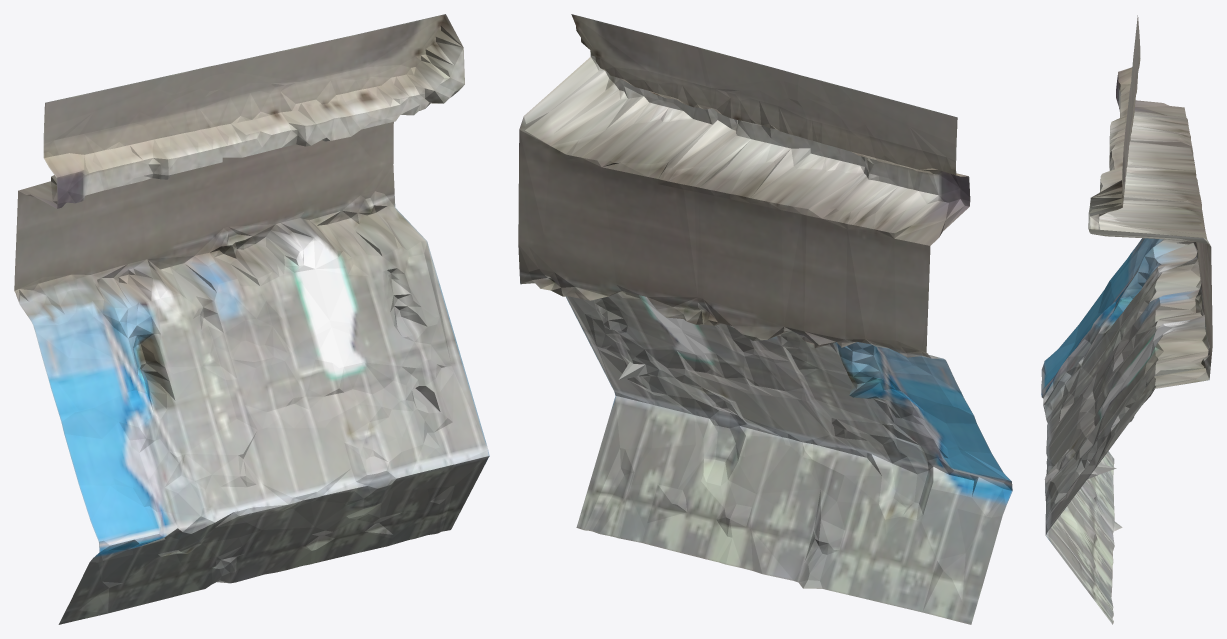
File: map_50_100.obj
3 renders of one model, left to right at view 1: azimuth 30°, elevation 25°; view 2: azimuth 150°, elevation 25°; view 3: azimuth 270°, elevation 25°, orthographic. The views are drawn at different scales.
Parts seen in each view (by area): view 1: grp1; view 2: grp1; view 3: grp1.
Boxes of the visible parts, box(x1,y1,x2,y2) form: grp1: box(14, 14, 489, 624); grp1: box(518, 14, 1012, 624); grp1: box(1041, 15, 1212, 624).
Size of the model in its own units: 8 by 10 by 3.5.
Materials: 1 (1 with a texture image).
